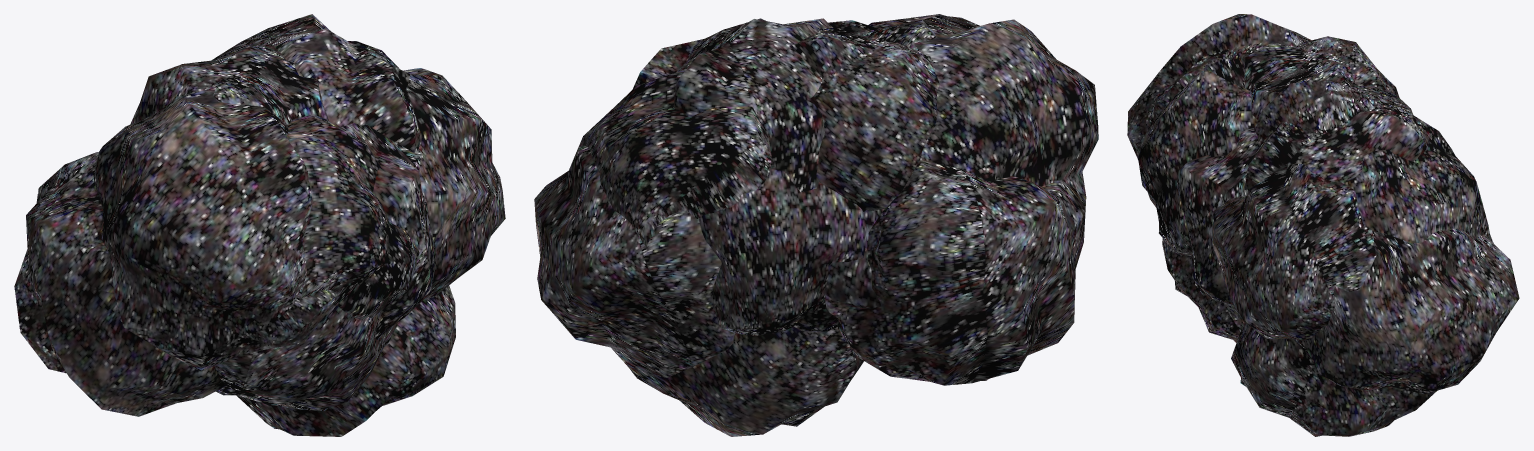
Rendered from atria-large-premium-v2.glb.
3 renders of one model, left to right at view 1: azimuth 30°, elevation 25°; view 2: azimuth 150°, elevation 25°; view 3: azimuth 270°, elevation 25°, orthographic. The views are drawn at different scales.
Parts seen in each view (by area): view 1: atria-large; view 2: atria-large; view 3: atria-large.
Boxes of the visible parts, x1=… form: atria-large: x1=14, y1=14, x2=505, y2=436; atria-large: x1=534, y1=14, x2=1098, y2=436; atria-large: x1=1127, y1=14, x2=1519, y2=436.
Bounding box in the file's own units: 1.78 × 1.46 × 1.51.
1 material, 1 textured.
